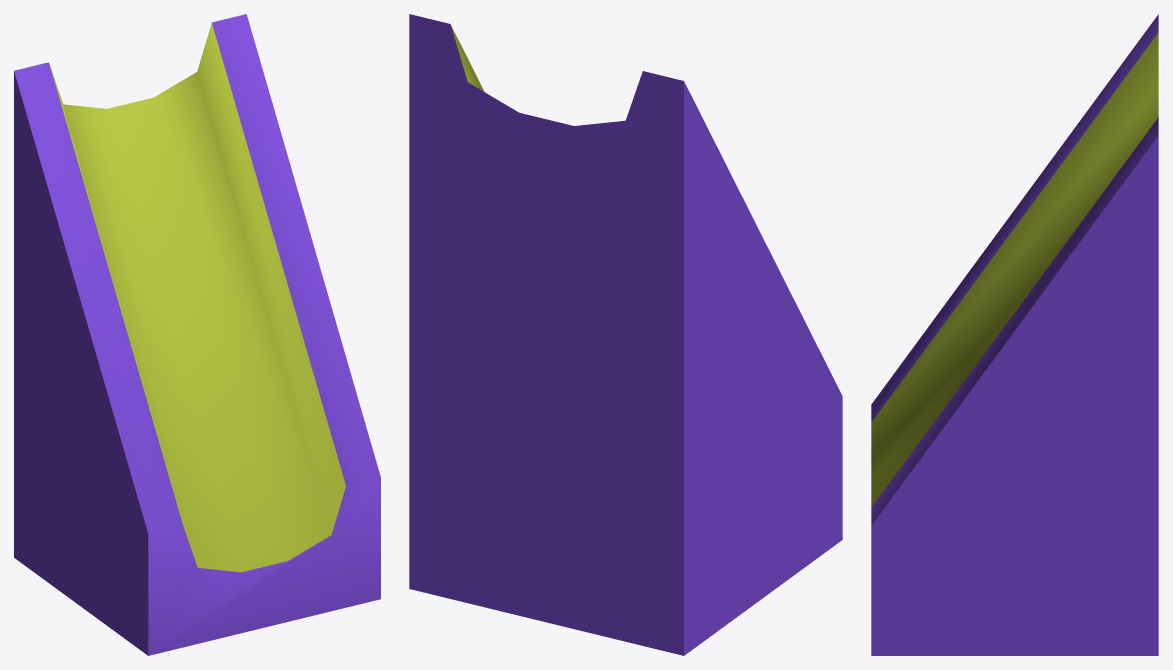
Rendered from slant_solid_D-col.dae.
3 renders of one model, left to right at view 1: azimuth 30°, elevation 25°; view 2: azimuth 150°, elevation 25°; view 3: azimuth 270°, elevation 25°, orthographic. The views are drawn at different scales.
Visible parts, largest first — view 1: slant_solid_D-col; view 2: slant_solid_D-col; view 3: slant_solid_D-col.
Part boxes in pixels (x1=…): slant_solid_D-col: x1=14, y1=14, x2=380, y2=655; slant_solid_D-col: x1=409, y1=14, x2=842, y2=655; slant_solid_D-col: x1=871, y1=14, x2=1158, y2=655.
Bounding box in the file's own units: 1 × 1 × 2.
